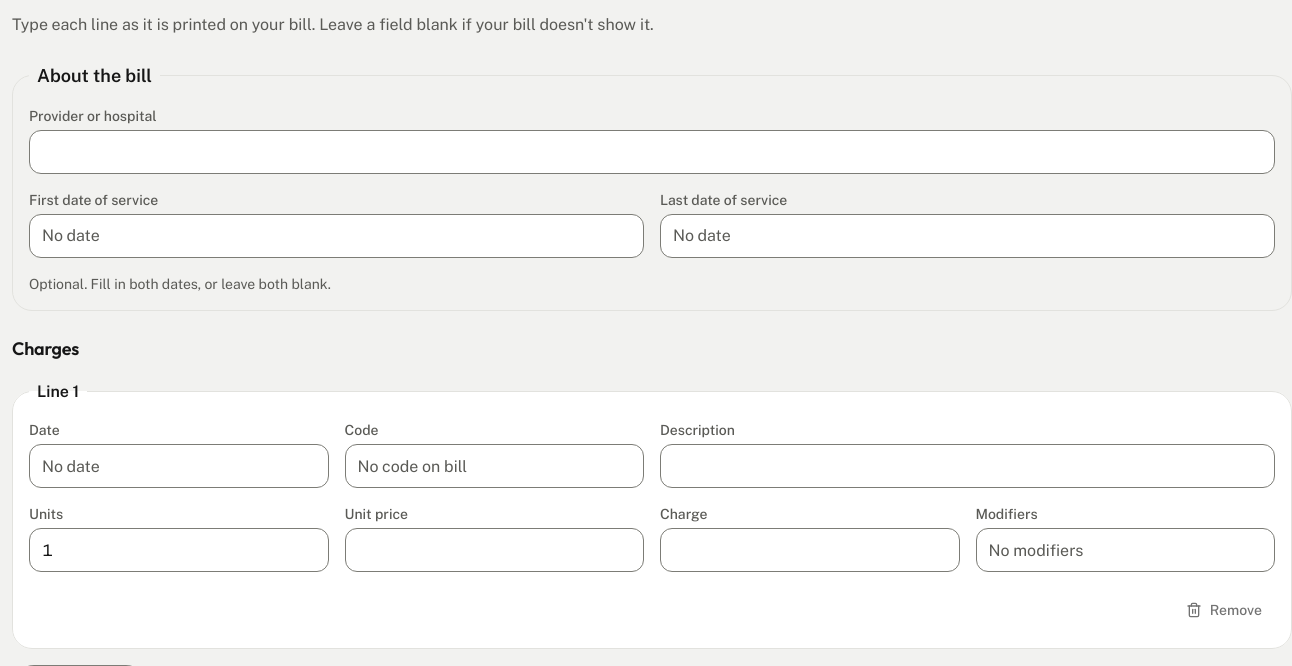
Test: ManualEntryForm › flags a bad code on the field and keeps it out of state
Step 1. Type "99-213" into the field named "Code, row 1" → [494, 466], box left=344, top=444, right=644, bottom=488
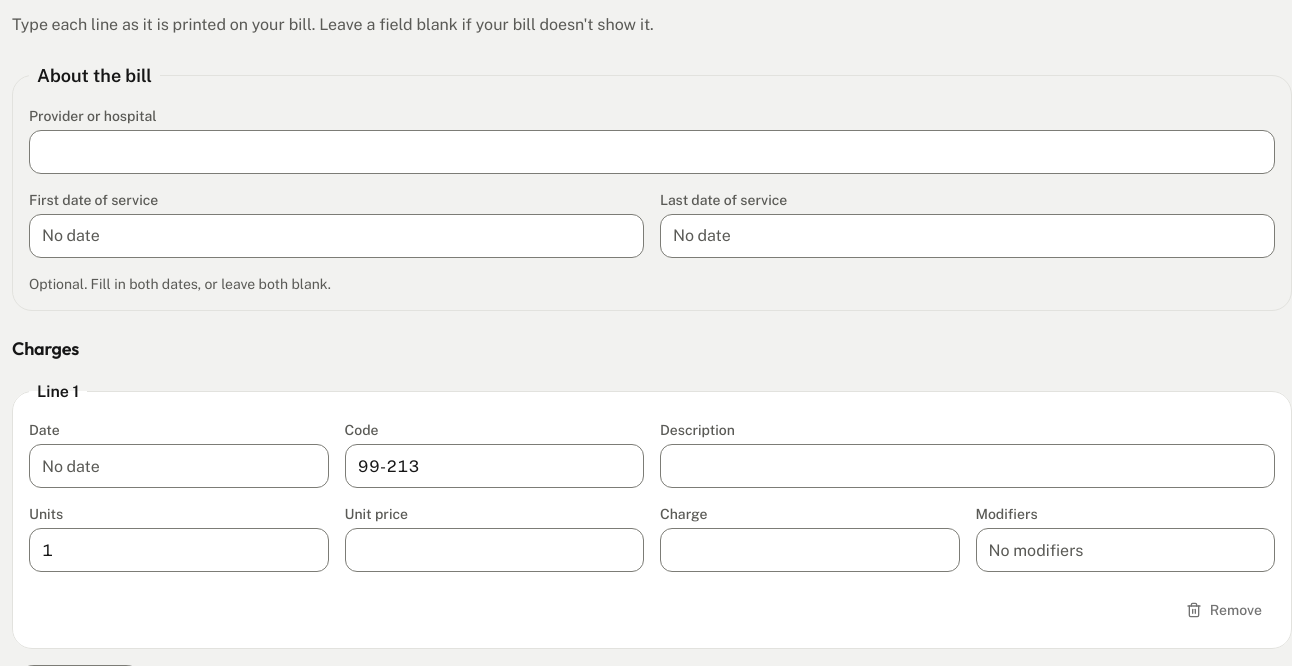
Step 2. Leave the field named "Code, row 1", box left=344, top=444, right=644, bottom=488
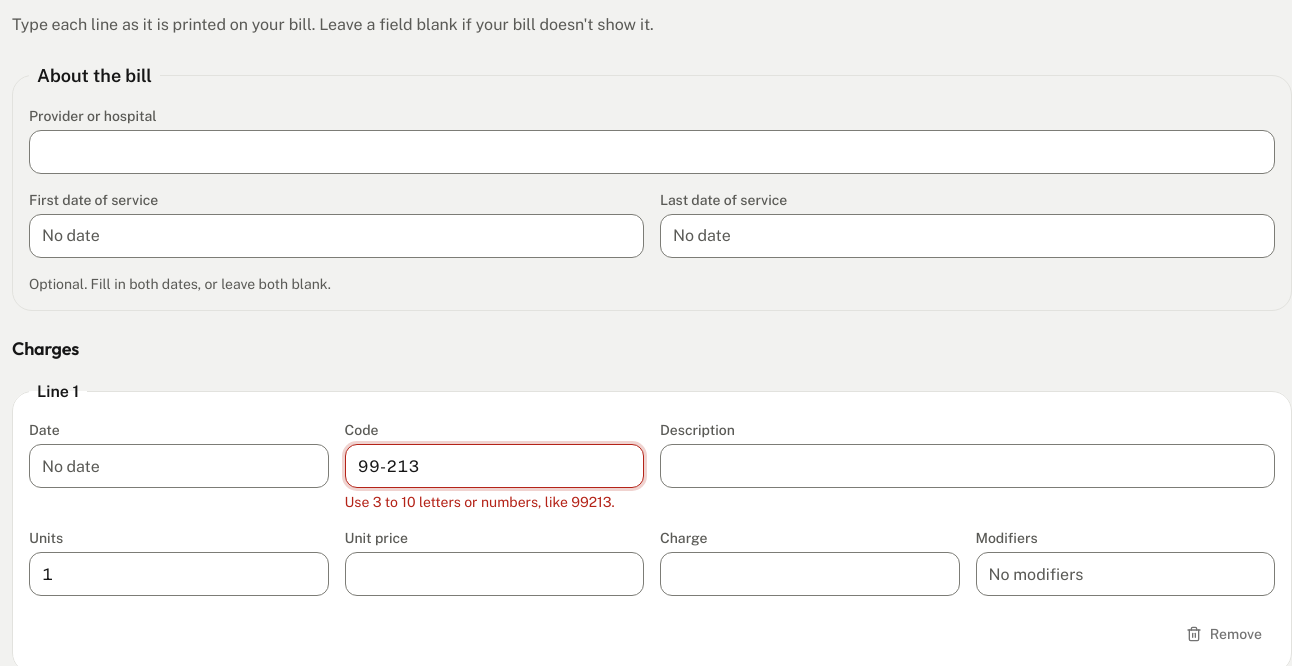
Now the text "Use 3 to 10 letters or numbers, like 99213." is shown, box left=344, top=492, right=644, bottom=512
